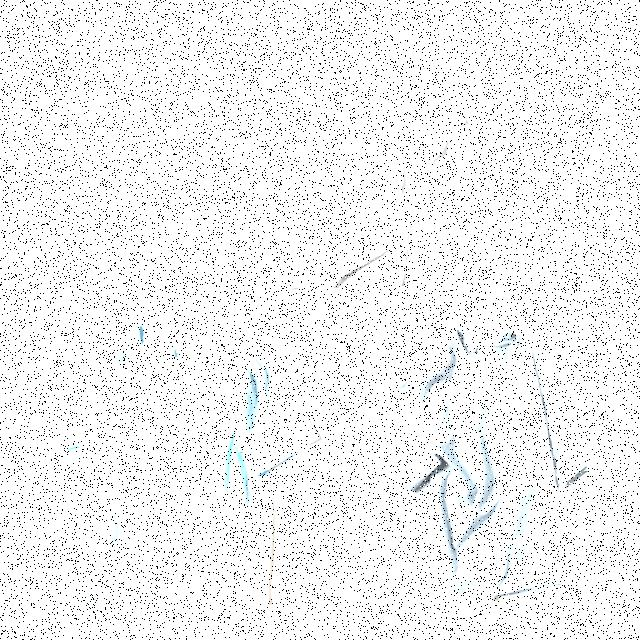dress: (32, 327, 320, 608), (174, 27, 458, 287), (364, 324, 595, 599)
